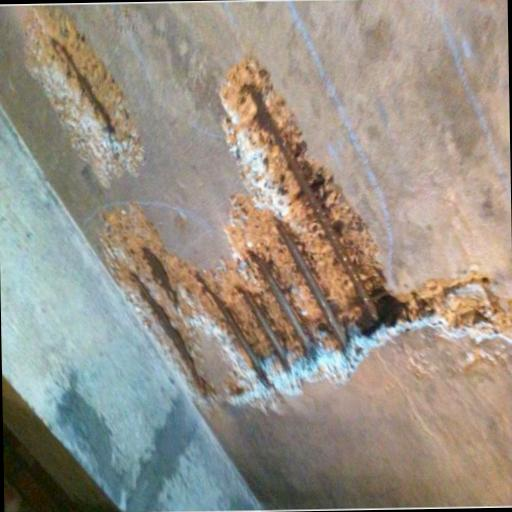spalling: (107, 62, 511, 403), (26, 9, 140, 187)
